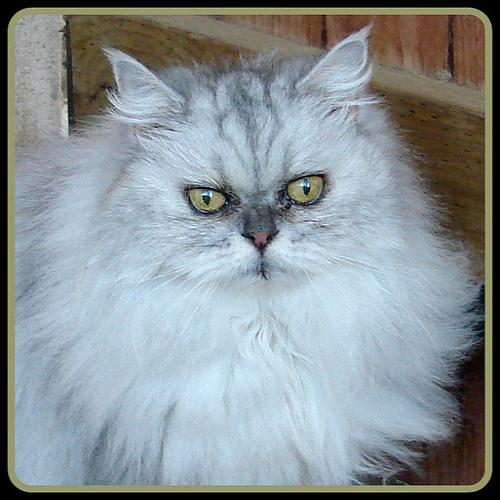persian: (87, 21, 387, 317)
